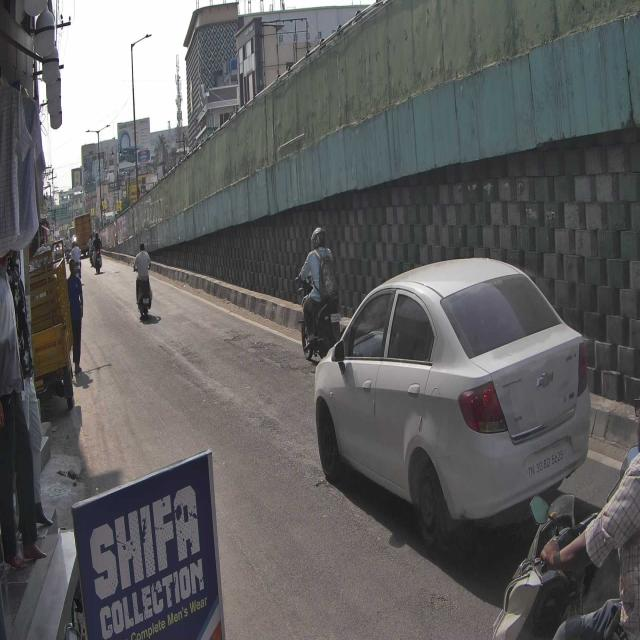single_rider: (295, 227, 345, 368)
